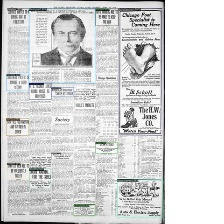news_paper: (0, 0, 164, 224)
